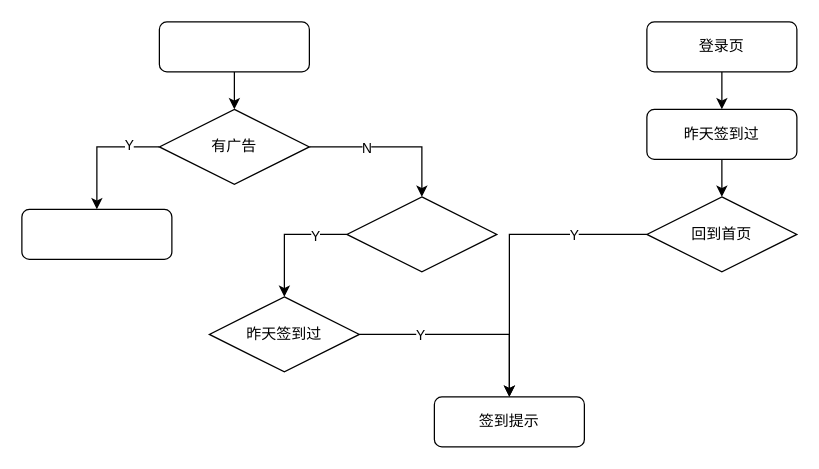
This 819x469 diagram has some shape labels left out. The centre of each missing label's shape, as x and y in pixels:
展示广告: [96,233]
已登录: [421,234]
首页: [233,46]
